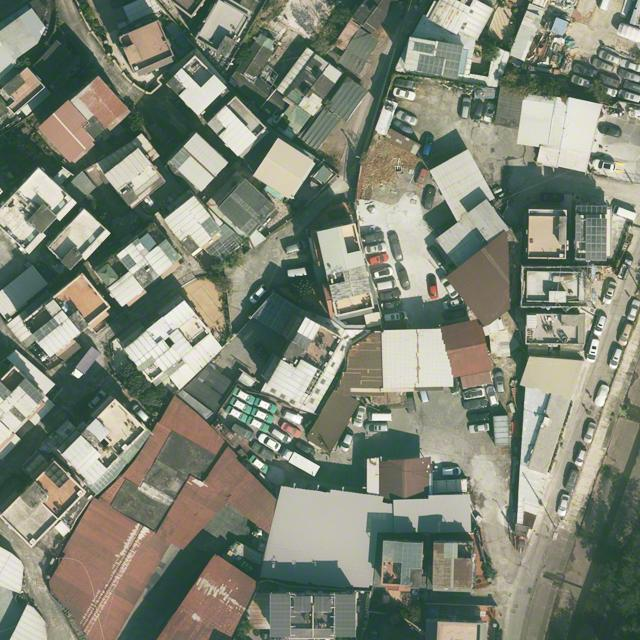panel: (270, 594, 291, 637), (335, 595, 356, 637), (586, 219, 606, 260), (417, 54, 446, 76), (435, 42, 463, 62), (442, 60, 460, 78), (413, 41, 435, 55), (576, 205, 607, 214), (294, 597, 311, 611), (314, 597, 331, 611), (576, 215, 581, 241)
